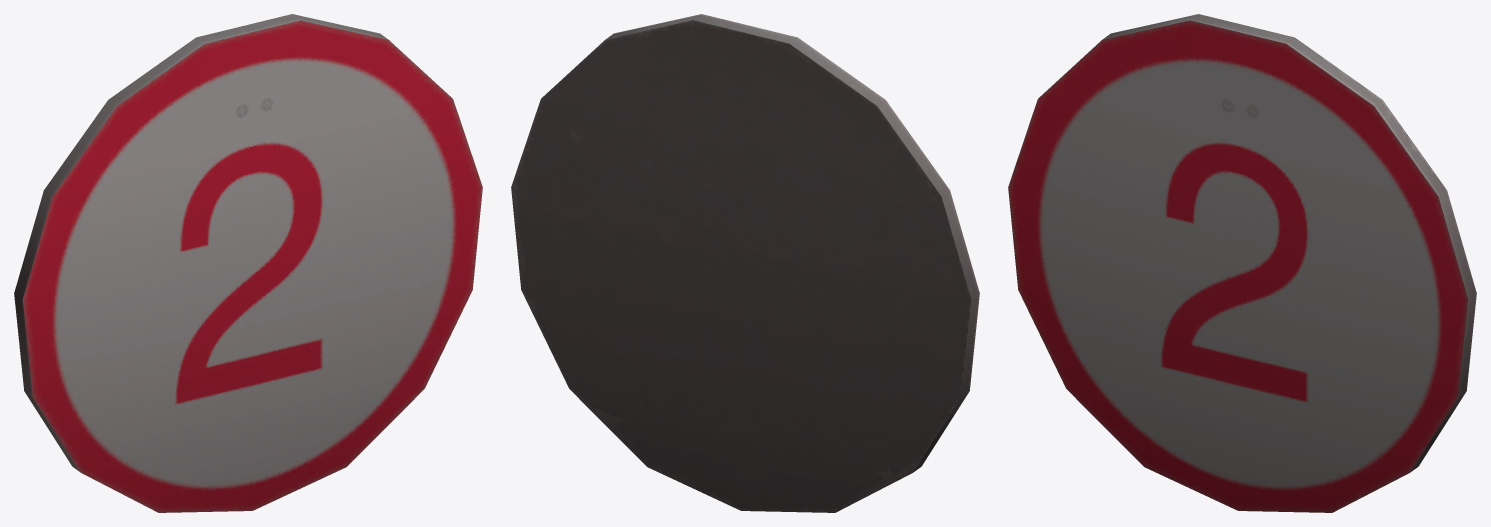
File: SM_2_Sign.FBX
3 renders of one model, left to right at view 1: azimuth 30°, elevation 25°; view 2: azimuth 150°, elevation 25°; view 3: azimuth 330°, elevation 25°, orthographic.
Visible parts, largest first — view 1: SM_2_Sign; view 2: SM_2_Sign; view 3: SM_2_Sign.
Boxes of the visible parts, box(x1,y1,x2,y2) form: SM_2_Sign: box(14, 14, 482, 512); SM_2_Sign: box(511, 14, 979, 512); SM_2_Sign: box(1008, 14, 1476, 512).
Size of the model in its own units: 49.93 by 1.61 by 49.65.
